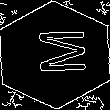M_W: (25, 31, 85, 79)
